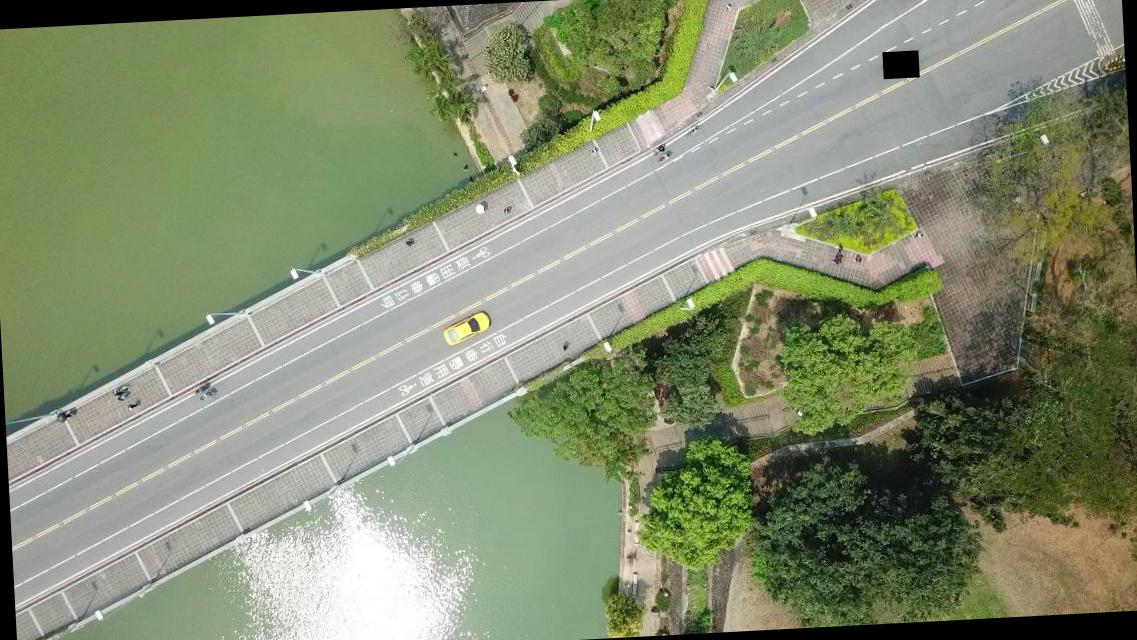vehicle: (442, 310, 492, 348)
